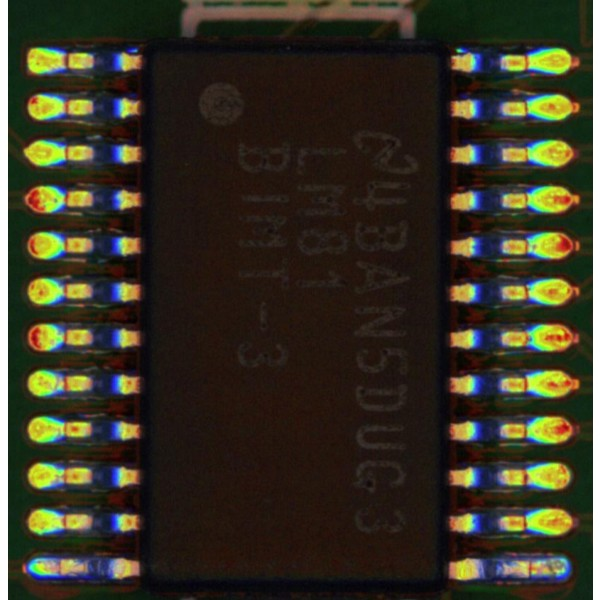Bad_podu: (50, 561, 69, 574), (522, 563, 540, 576)
